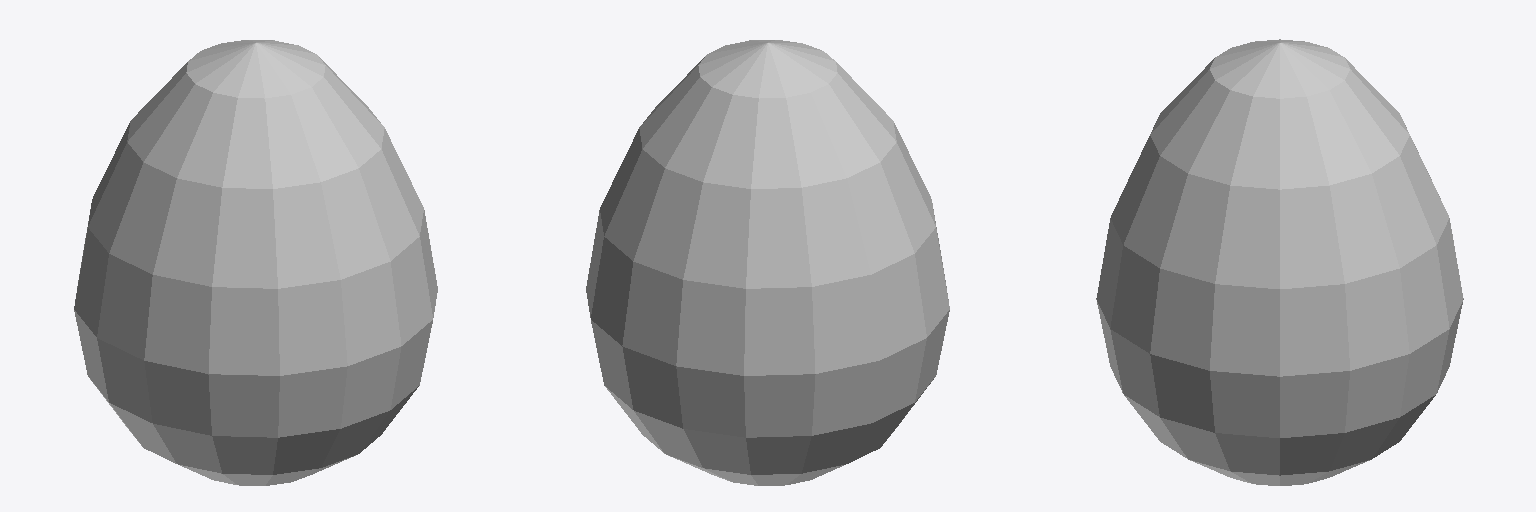
File: oeuf.obj
3 renders of one model, left to right at view 1: azimuth 30°, elevation 25°; view 2: azimuth 150°, elevation 25°; view 3: azimuth 270°, elevation 25°, orthographic.
Parts seen in each view (by area): view 1: Sphere; view 2: Sphere; view 3: Sphere.
Boxes of the visible parts, <box> form: Sphere: <box>74,40,437,485</box>; Sphere: <box>586,40,949,485</box>; Sphere: <box>1096,39,1463,485</box>.
Bounding box in the file's own units: 0.448 × 0.5746 × 0.448.